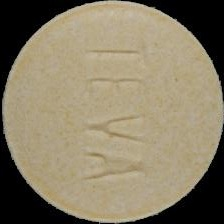53808-0766: (0, 0, 224, 224)
